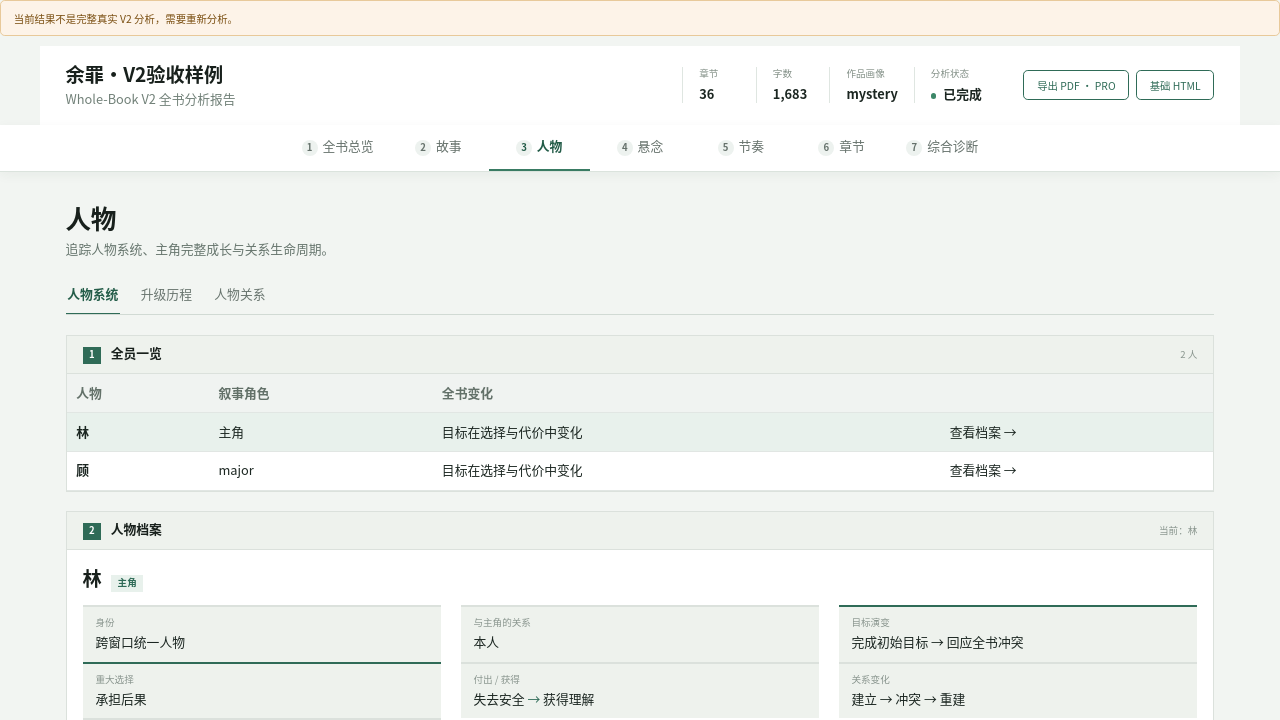
历程图本身 › 下跌的点单独标出来
Click the button "升级历程" at (166, 294), box [139,275,194,314]
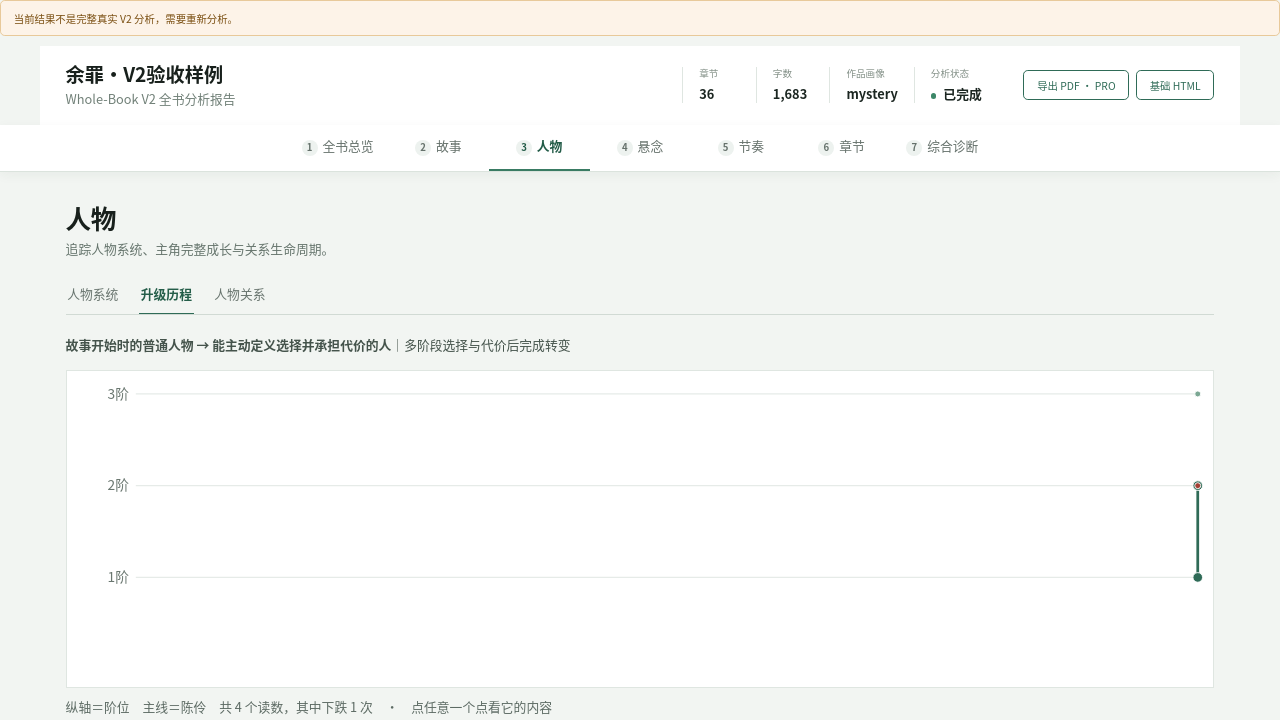
Now the text "纵轴＝阶位 主线＝陈伶 共 4 个读数，其中下跌 1 次 · 点任意一个点看它的内容" is shown, box [66,697,552,716]
